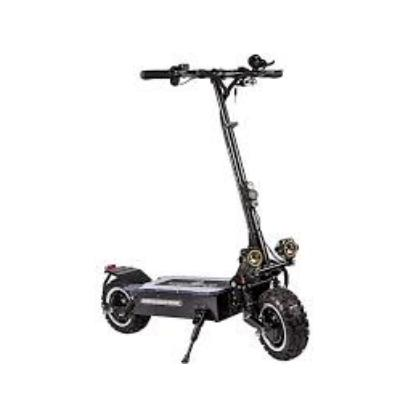bike: (98, 55, 310, 365)
